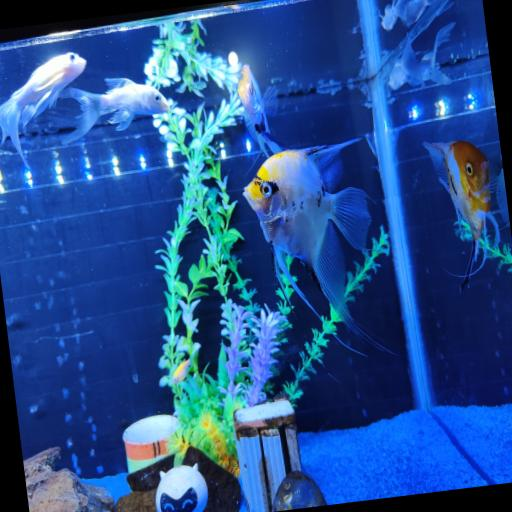Fish: (243, 140, 370, 335), (423, 141, 499, 291), (0, 53, 85, 167), (59, 78, 168, 144), (388, 22, 454, 90), (237, 65, 281, 157), (381, 0, 428, 30), (496, 170, 509, 224), (170, 360, 189, 384)
